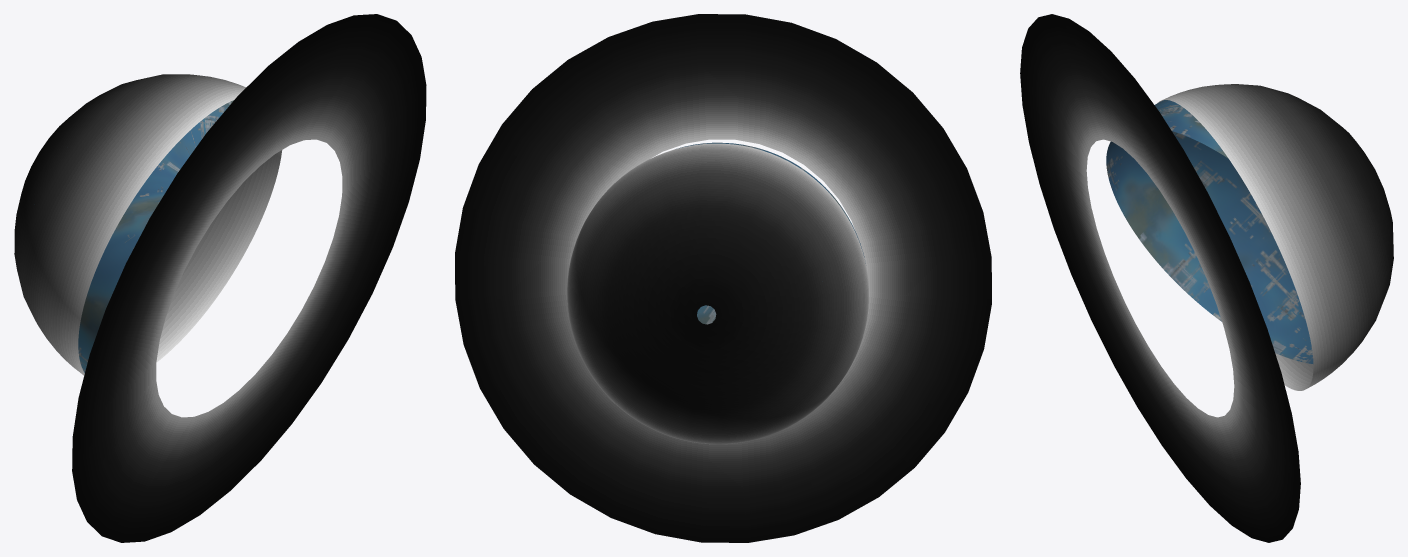
The model's file is env_space_corellia_01.glb.
The picture shows the model from 3 angles, left to right: view 1: azimuth 30°, elevation 25°; view 2: azimuth 150°, elevation 25°; view 3: azimuth 270°, elevation 25°; orthographic projection. The views are drawn at different scales.
Visible parts, largest first — view 1: planet_glow_mesh, planet_fresnel_mesh, planet_body_mesh; view 2: planet_glow_mesh, planet_fresnel_mesh, planet_body_mesh; view 3: planet_glow_mesh, planet_fresnel_mesh, planet_body_mesh.
Part boxes in pixels (x1,y1,x2,y2): planet_glow_mesh: (72, 14, 426, 542); planet_fresnel_mesh: (14, 74, 282, 375); planet_body_mesh: (34, 100, 233, 372); planet_glow_mesh: (455, 14, 991, 542); planet_fresnel_mesh: (567, 143, 868, 444); planet_body_mesh: (676, 142, 865, 324); planet_glow_mesh: (1020, 14, 1300, 542); planet_fresnel_mesh: (1157, 84, 1393, 390); planet_body_mesh: (1106, 100, 1313, 363).
Bounding box in the file's own units: 992 × 1060 × 709.
Materials: 3 (3 with a texture image).
